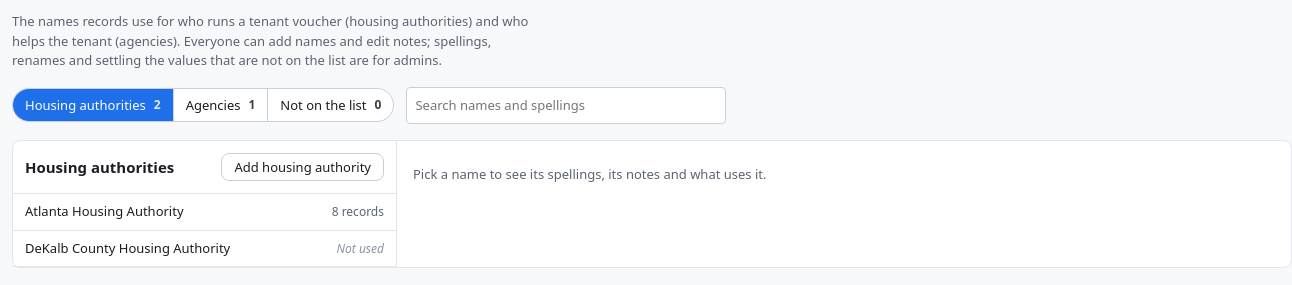
Test: OrgListSection - the lists › the search finds names and spellings in every list, and the counts say where
In the search field labelled "Search names and spellings": (566, 105) [406,86,726,124], type "hadc"
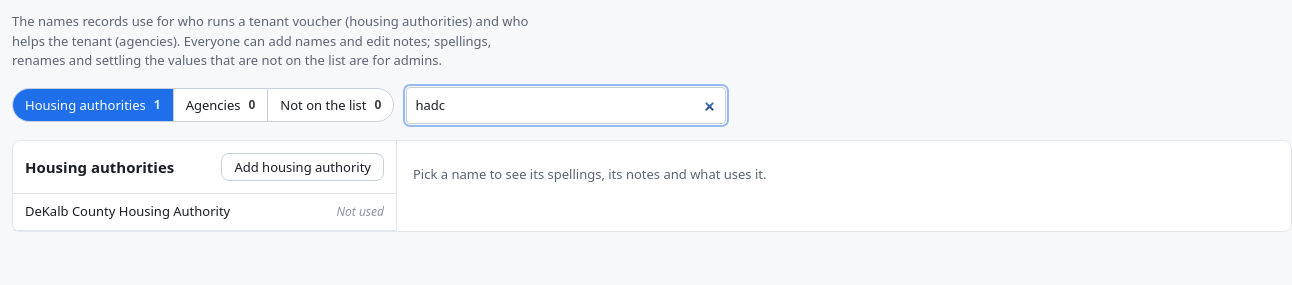
Expected: the link "Atlanta Housing Authority" is gone
Expected: the button "Housing authorities 1" is shown, [13,89,174,121]
Expected: the button "Agencies 0" is shown, [174,89,268,121]
Compared the way names are: case and punctuation do not matter.
Replace the text in the search field named "Search names and spellings" with "step-up": (566, 105) [406,86,726,124]
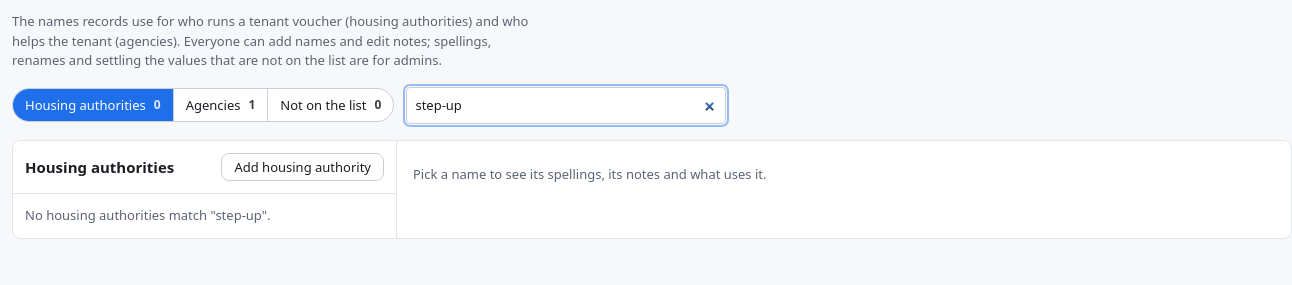
Expected: the button "Agencies 1" is shown, [174,89,268,121]
Expected: the text "No housing authorities match \"step-up\"." is shown, [25,206,270,224]
